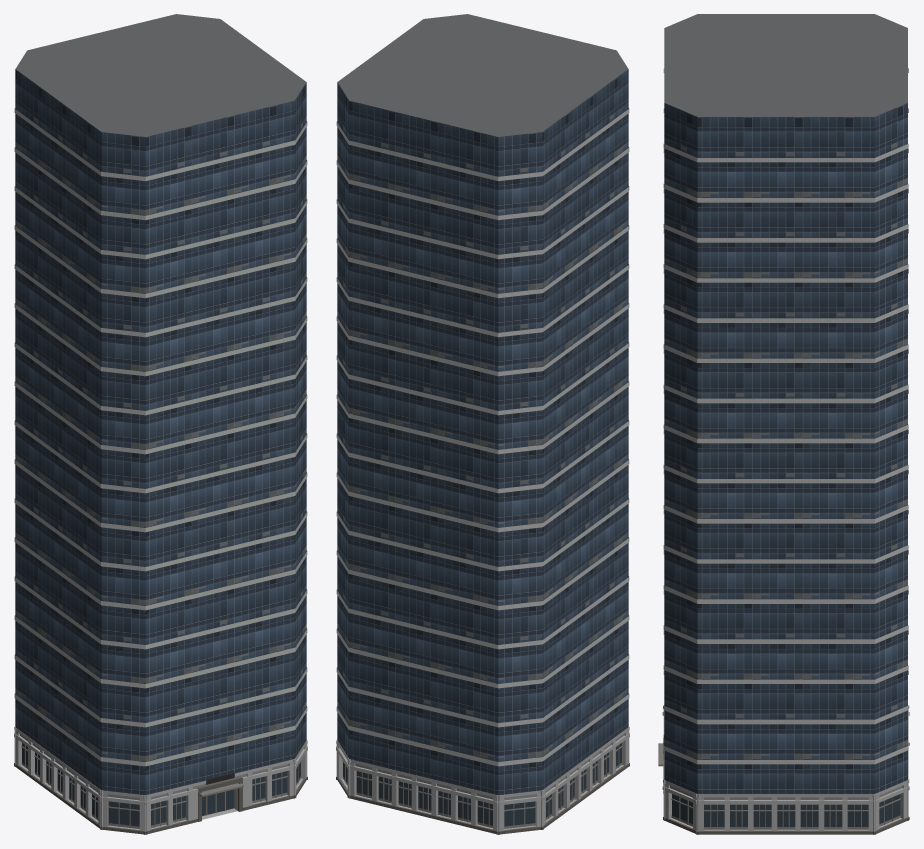
Rendered from bank_of_america_fifth_ave.glb.
3 views of the same model, side by side, from view 1: azimuth 30°, elevation 25°; view 2: azimuth 150°, elevation 25°; view 3: azimuth 270°, elevation 25° (orthographic). The views are drawn at different scales.
Visible parts, largest first — view 1: bank_of_america_fifth_ave; view 2: bank_of_america_fifth_ave; view 3: bank_of_america_fifth_ave.
Boxes of the visible parts, x1=… form: bank_of_america_fifth_ave: x1=14, y1=14, x2=307, y2=834; bank_of_america_fifth_ave: x1=336, y1=14, x2=629, y2=834; bank_of_america_fifth_ave: x1=658, y1=14, x2=909, y2=834.
Bounding box in the file's own units: 44.62 × 143 × 45.41.
Materials: 2 (2 with a texture image).
